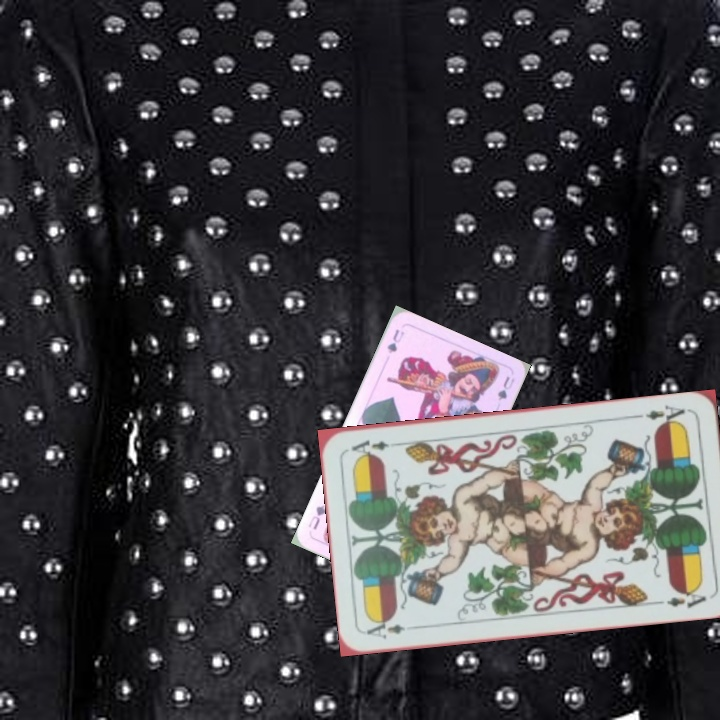EA: (632, 401, 687, 429), (363, 616, 422, 641)
GU: (383, 325, 407, 356)
